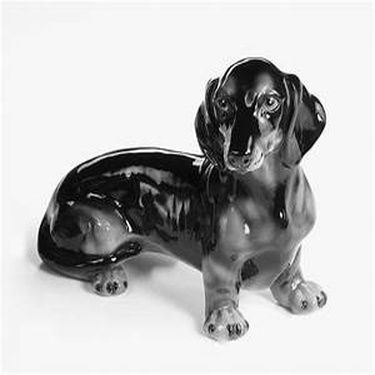dog: (11, 38, 344, 352)
